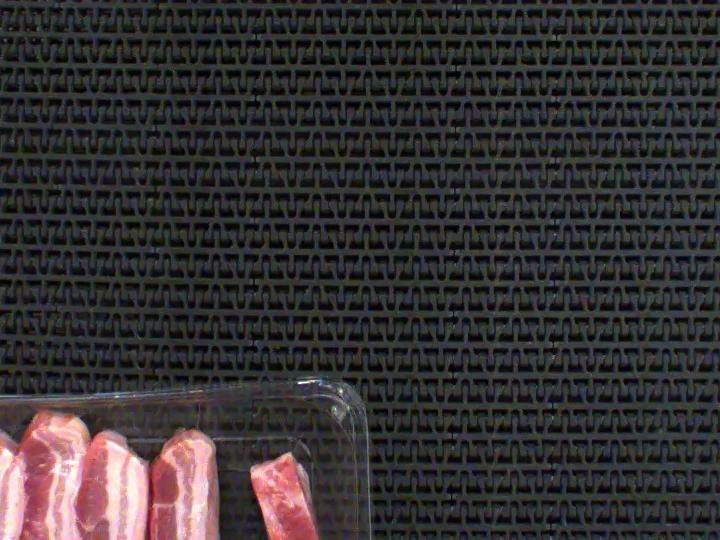loose-meat: (215, 422, 394, 540)
